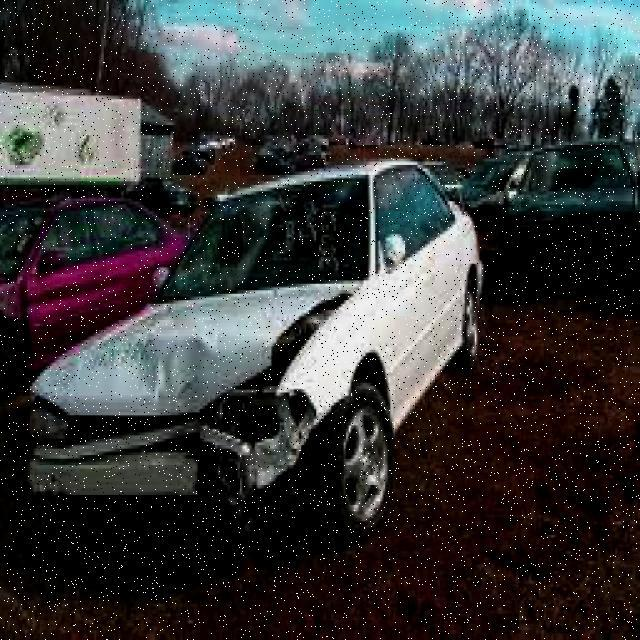car damage: (32, 277, 365, 522)
